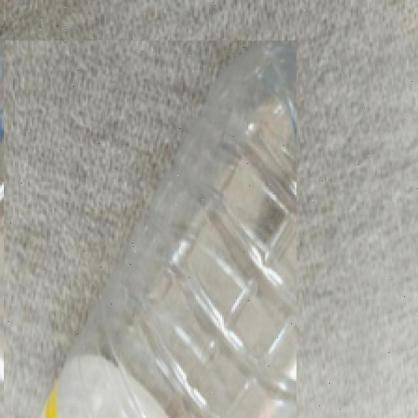bottle: (4, 40, 296, 418)
